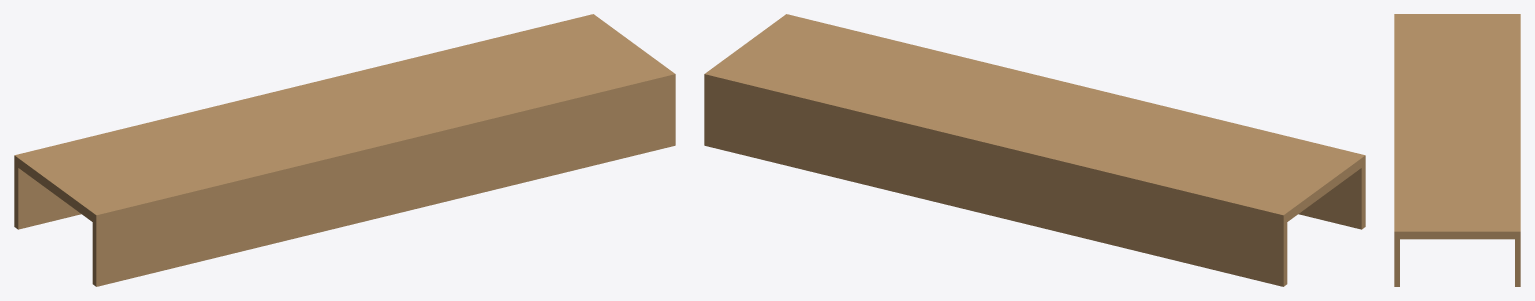
Rendered from mv2-table-snack-riser.glb.
The picture shows the model from 3 angles, left to right: view 1: azimuth 30°, elevation 25°; view 2: azimuth 150°, elevation 25°; view 3: azimuth 270°, elevation 25°; orthographic projection. The views are drawn at different scales.
Visible parts, largest first — view 1: Continuous open-underneath oak display bridge; view 2: Continuous open-underneath oak display bridge; view 3: Continuous open-underneath oak display bridge.
Boxes of the visible parts, bbox=[...] form: Continuous open-underneath oak display bridge: bbox=[14, 14, 675, 286]; Continuous open-underneath oak display bridge: bbox=[704, 14, 1365, 286]; Continuous open-underneath oak display bridge: bbox=[1394, 14, 1520, 286].
Size of the model in its own units: 2.2 by 0.26 by 0.54.
